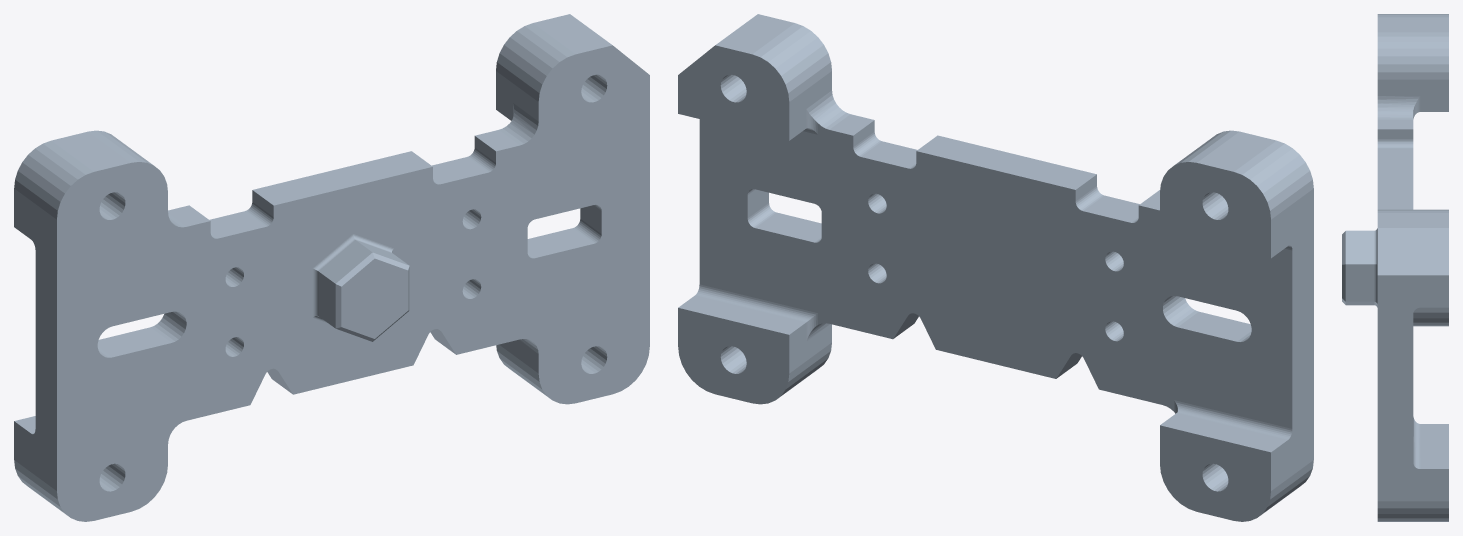
Rendered from nist-ctc-01-asme1-ap242-e1-folded.glb.
3 renders of one model, left to right at view 1: azimuth 30°, elevation 25°; view 2: azimuth 150°, elevation 25°; view 3: azimuth 270°, elevation 25°, orthographic. The views are drawn at different scales.
Parts seen in each view (by area): view 1: world; view 2: world; view 3: world.
Part boxes in pixels (box(x1,y1,x2,y2)): world: box(14, 14, 649, 521); world: box(678, 14, 1313, 521); world: box(1342, 14, 1448, 521).
Size of the model in its own units: 800 by 450 by 150.
